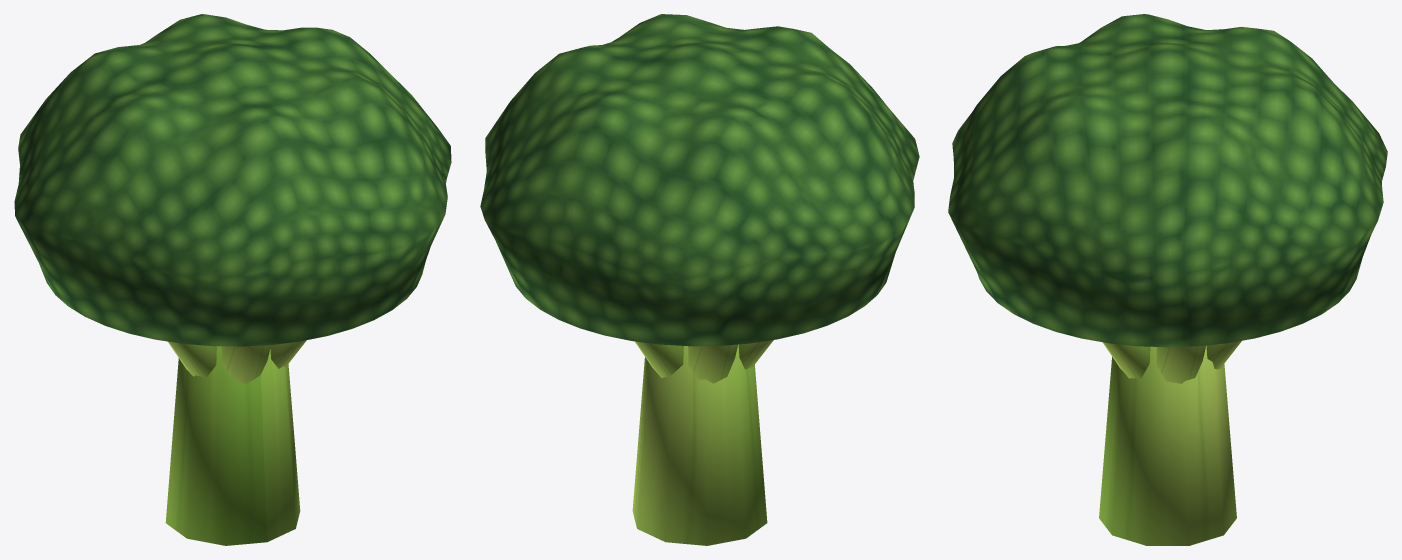
Rendered from NP_Broccoli_Harvest.fbx.
3 renders of one model, left to right at view 1: azimuth 30°, elevation 25°; view 2: azimuth 150°, elevation 25°; view 3: azimuth 270°, elevation 25°, orthographic.
Parts seen in each view (by area): view 1: NP_Broccoli_Harvest; view 2: NP_Broccoli_Harvest; view 3: NP_Broccoli_Harvest.
Boxes of the visible parts, x1,y1,x2,y2 form: NP_Broccoli_Harvest: (14,14,451,545); NP_Broccoli_Harvest: (480,14,919,545); NP_Broccoli_Harvest: (948,14,1387,545).
Bounding box in the file's own units: 50.46 × 54.89 × 46.83.
